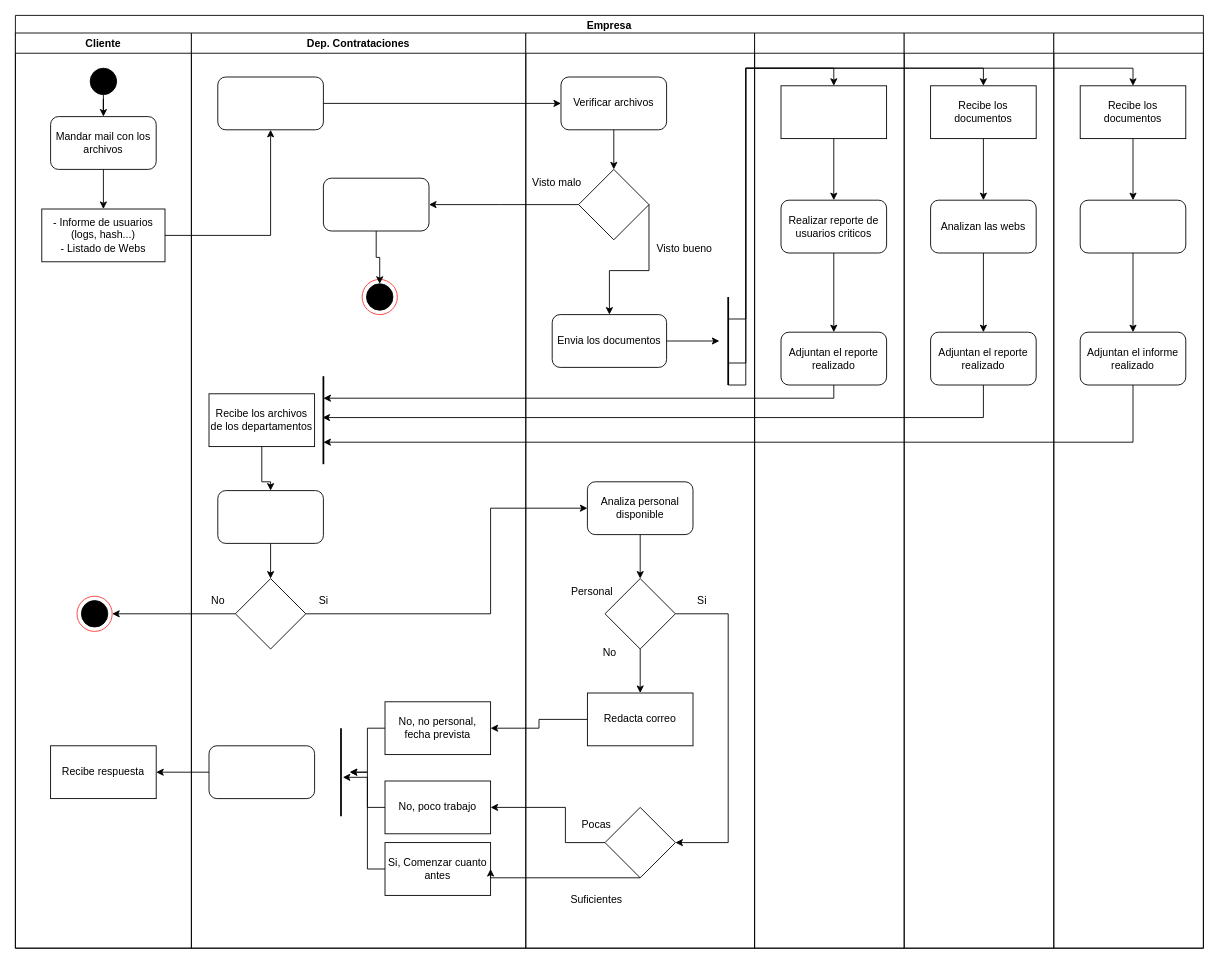
Image size: 1219x964. Some labels were removed from this diagram. Here are the shapes that lost their labels. From the top down, the box of each, then its label:
(217, 76, 323, 130): Reenviar mail recibido
(780, 85, 887, 139): Complejidad de contraseñas y mails de spam
(323, 177, 429, 231): Devuelve una respuesta negativa
(1079, 199, 1186, 253): Evalua conexiones a los servicios y reporta
(525, 32, 755, 948): Director
(754, 32, 904, 948): Dep. Formación
(903, 32, 1054, 948): Dep. Legal
(1053, 32, 1203, 948): Dep. Inteligencia Artificial
(217, 490, 323, 543): Realiza un informe final
(208, 745, 315, 799): redacta mail
